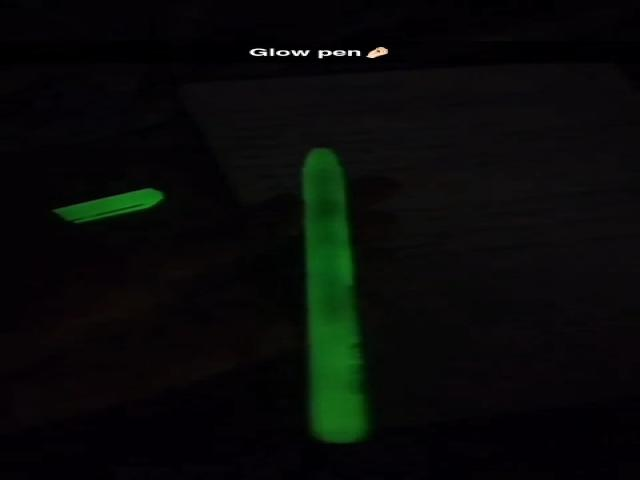PEN: (289, 144, 405, 449)
